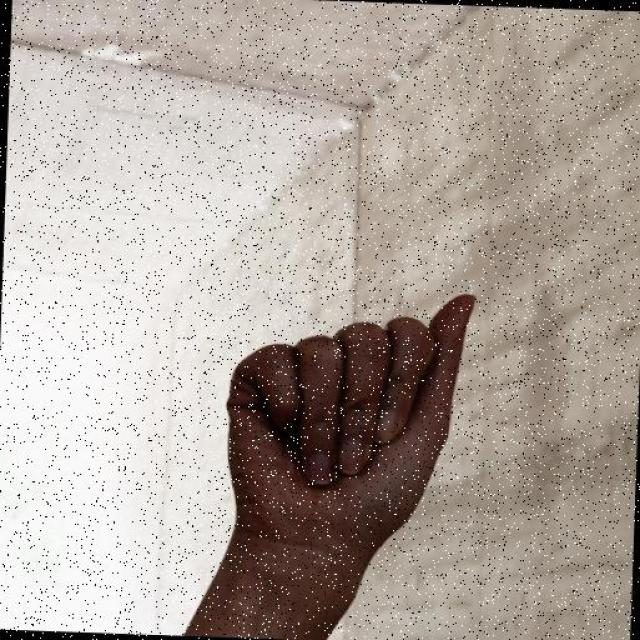A: (215, 279, 481, 555)
